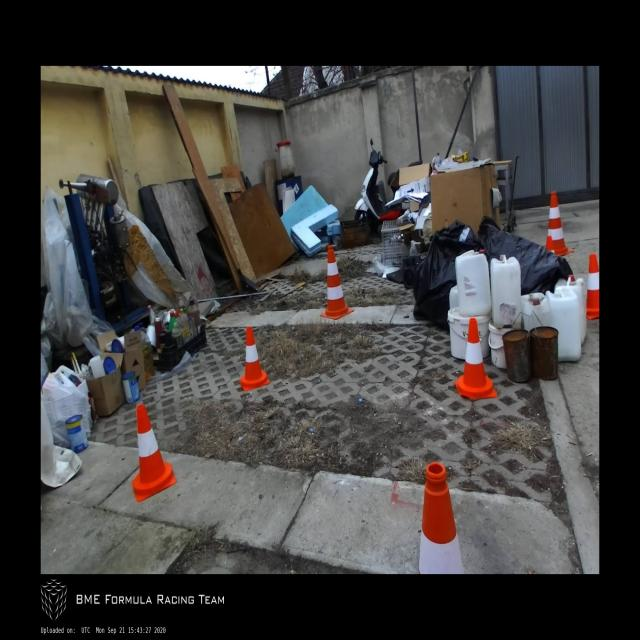large_orange_cone: (418, 465, 464, 574), (320, 245, 353, 320), (548, 191, 574, 256)
orange_cone: (130, 404, 177, 500), (455, 318, 496, 400), (238, 326, 270, 391), (585, 253, 599, 320)
